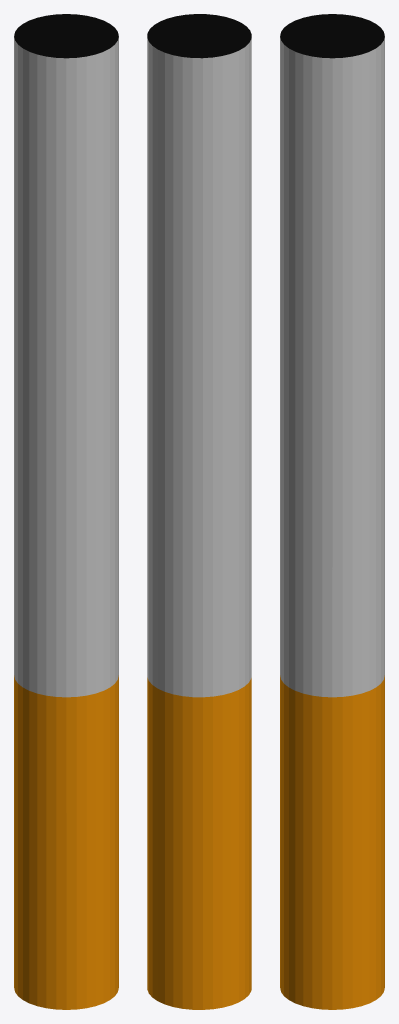
File: ciggie.fbx
The picture shows the model from 3 angles, left to right: view 1: azimuth 90°, elevation 25°; view 2: azimuth 150°, elevation 25°; view 3: azimuth 270°, elevation 25°; orthographic projection.
Parts seen in each view (by area): view 1: Cylinder; view 2: Cylinder; view 3: Cylinder.
Part boxes in pixels (<box>): Cylinder: <box>14,14,118,1009</box>; Cylinder: <box>147,14,251,1009</box>; Cylinder: <box>280,14,384,1009</box>.
Bounding box in the file's own units: 80.63 × 808 × 80.63.
